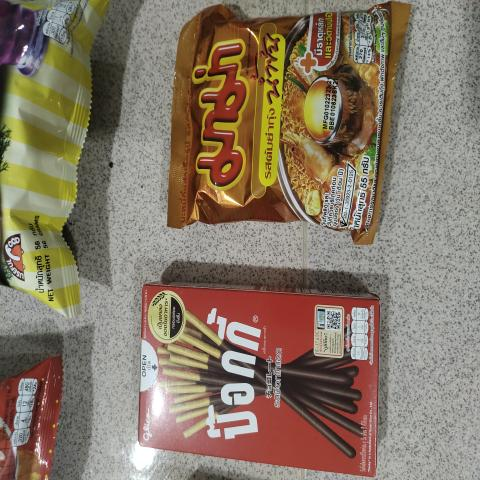mama: (169, 25, 379, 221)
pokki: (143, 282, 379, 469)
